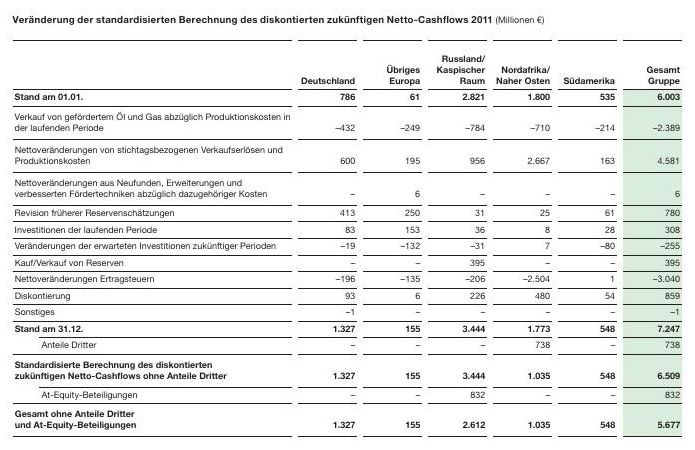table: (0, 0, 695, 450)
